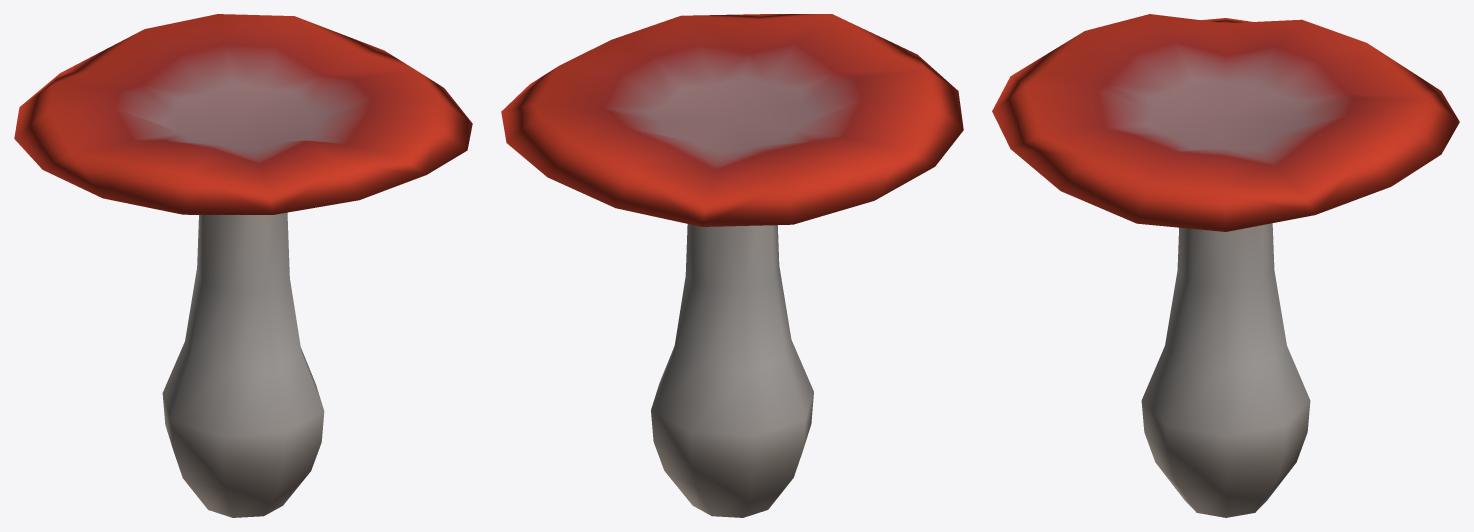
The model's file is plants-mushrooms-red-cap-mushroom_v1.glb.
The picture shows the model from 3 angles, left to right: view 1: azimuth 30°, elevation 25°; view 2: azimuth 150°, elevation 25°; view 3: azimuth 270°, elevation 25°; orthographic projection.
Visible parts, largest first — view 1: Red Cap Mushroom_v1; view 2: Red Cap Mushroom_v1; view 3: Red Cap Mushroom_v1.
Boxes of the visible parts, x1,y1,x2,y2 form: Red Cap Mushroom_v1: (14, 14, 472, 517); Red Cap Mushroom_v1: (501, 14, 963, 517); Red Cap Mushroom_v1: (992, 14, 1459, 517).
Size of the model in its own units: 0.0991 by 0.1 by 0.0991.
